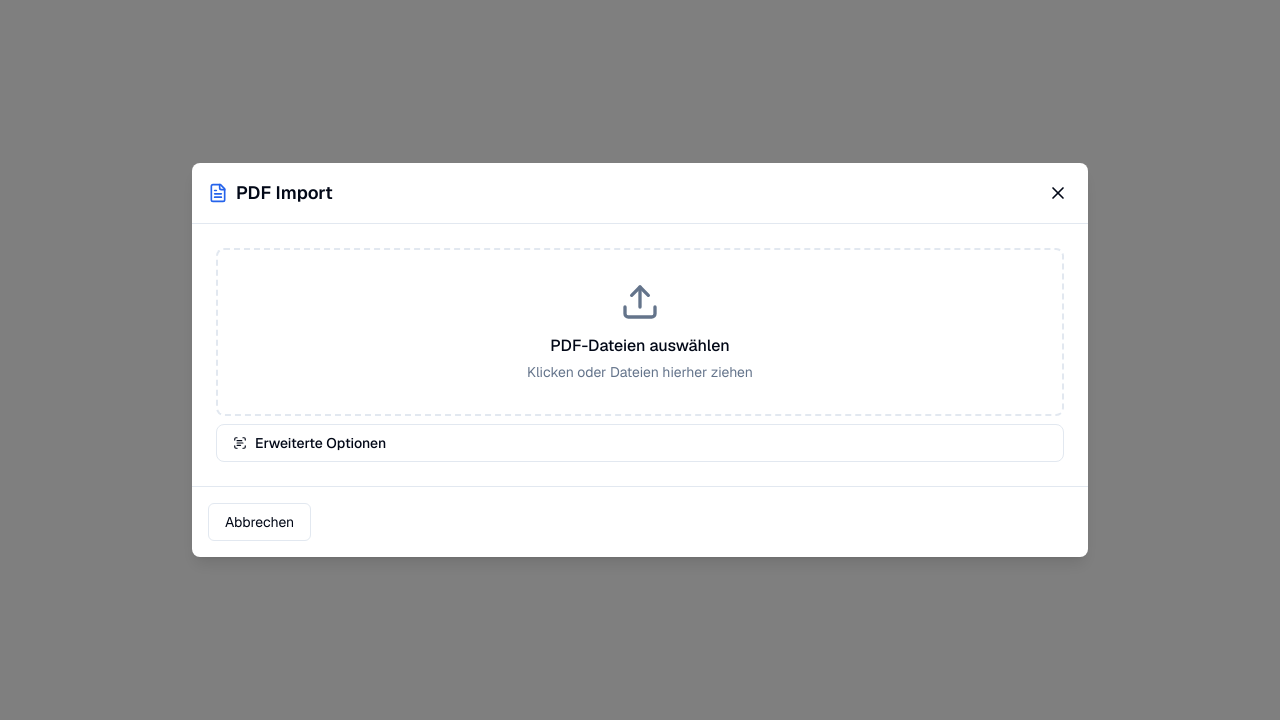
PdfImportModal › Initial Render › should load supported banks on open
The image size is (1280, 720).
Banks are shown in the "Erweiterte Optionen" details section
Click the heading "Erweiterte Optionen". click: point(310, 443)
box: [233,434,386,452]
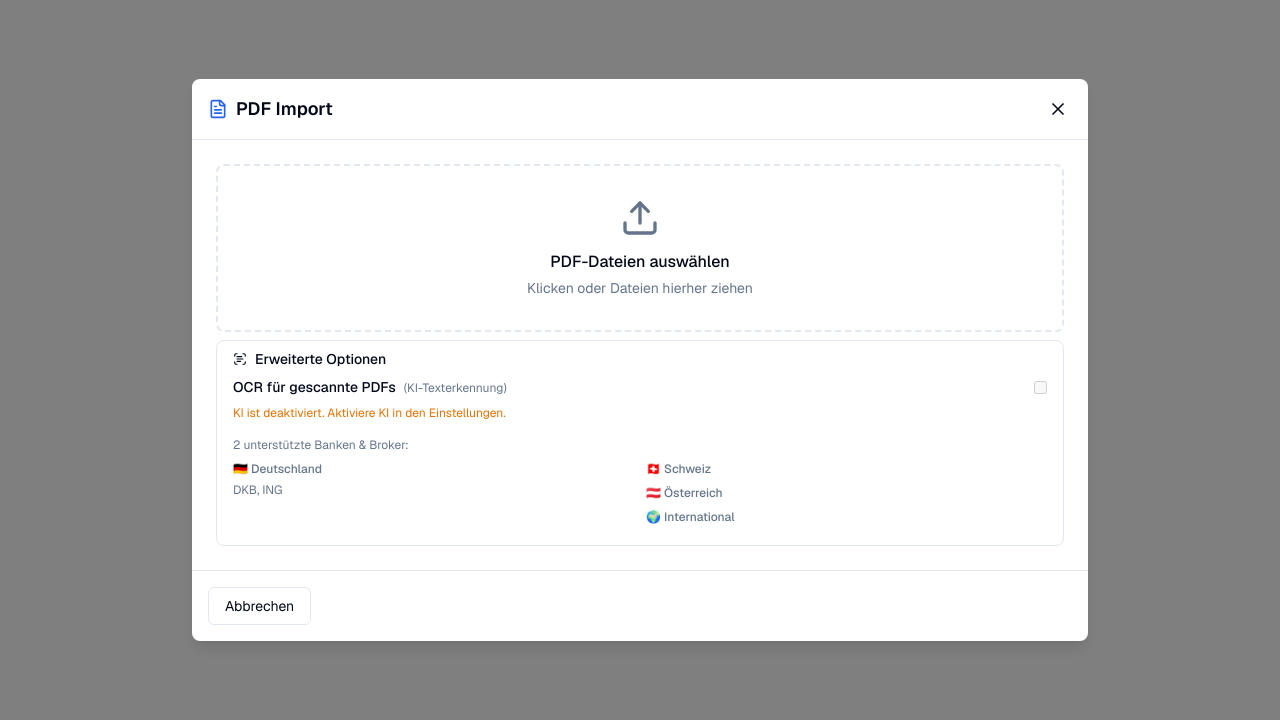
Now the text "DKB, ING" is shown, box [233,482,282,498]
